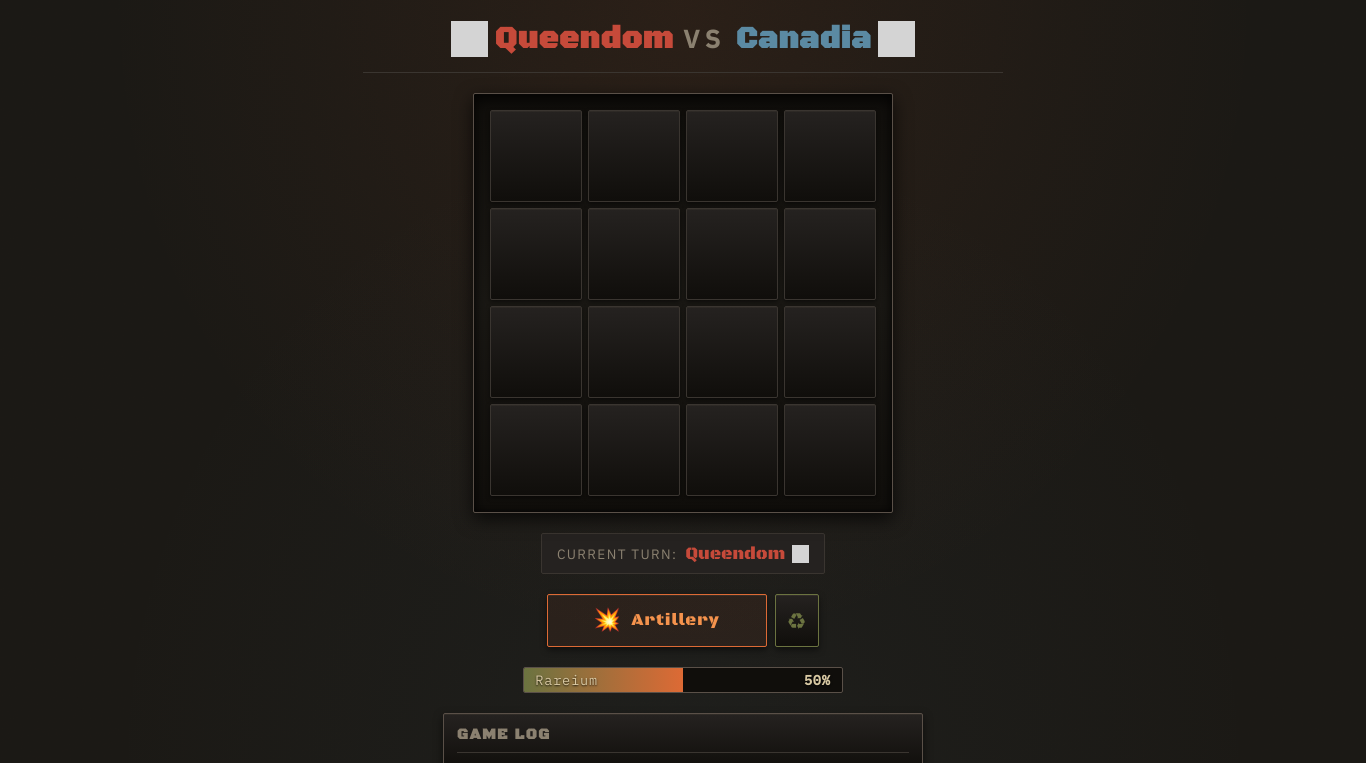
it: recycle-bekreftelse › ber om bekreftelse før våpenet resirkuleres
The width and height of the screenshot is (1366, 763).
Click the button named "Recycle strategic weapon": (797, 621) [775,594,819,648]
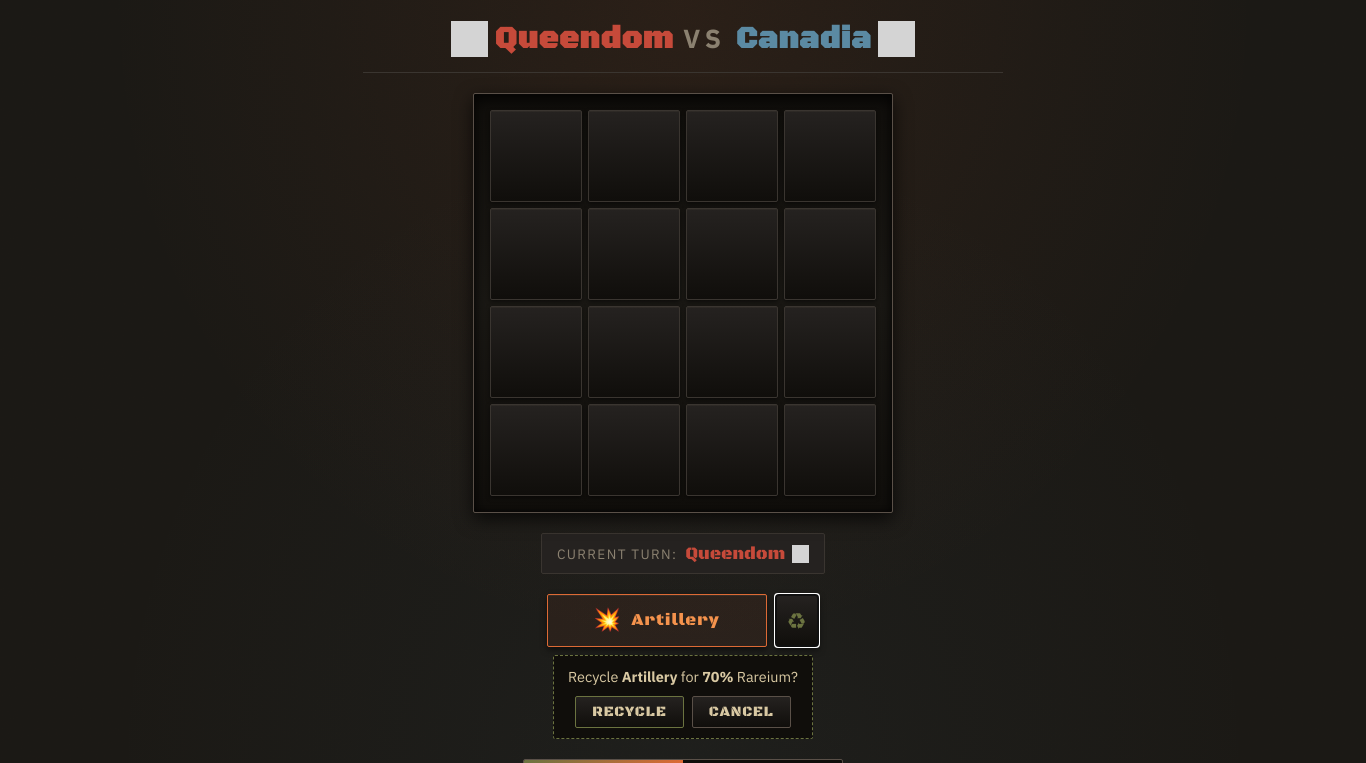
Expected: the dialog is shown, [553,656,813,739]
Click the button "Recycle": (630, 712) [575,696,684,728]
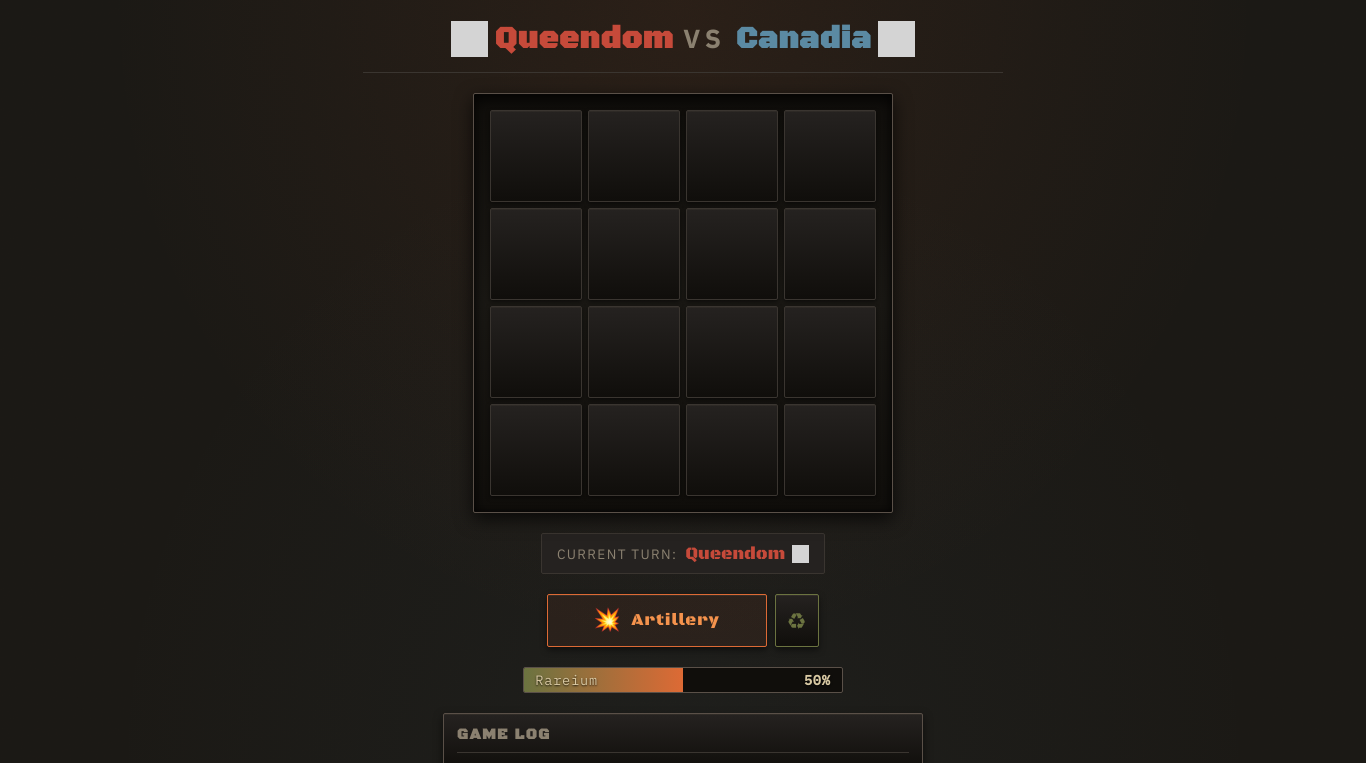
Expected: the dialog is gone
